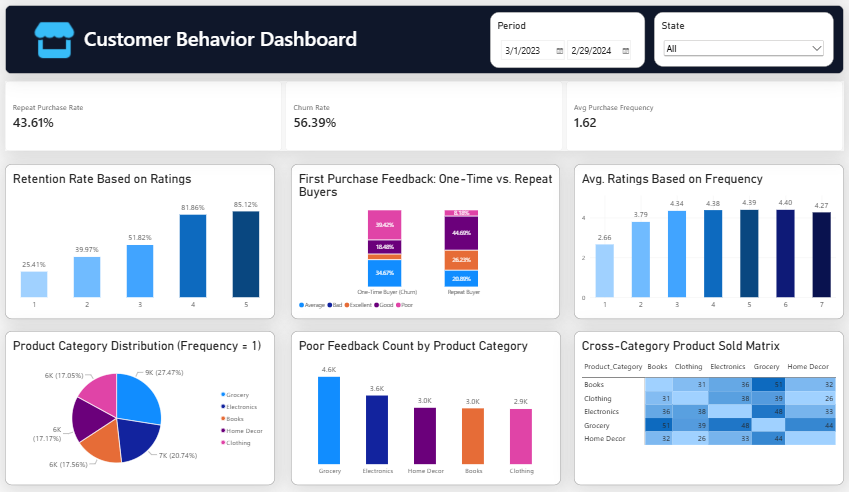

What the dashboard file says about the page in this screenshot:
{"tool":"powerbi","page":{"name":"Customer Behavior","canvas":[1920,1080],"ordinal":1},"visuals":[{"type":"columnChart","title":"Retention Rate Based on Ratings","fields":{"Y":["Measure.Retention Rate"],"Category":["data_usa (6).Ratings"]},"box":[51.8,362.9,583.2,334.8],"z":0},{"type":"columnChart","title":"First Purchase Feedback: One-Time vs. Repeat Buyers","fields":{"Category":["data_usa (6).Buyer_Type"],"Y":["Measure.Feedback_Proportion"],"Series":["data_usa (6).First_Feedback"]},"box":[669.6,362.9,581,334.8],"z":1000},{"type":"clusteredColumnChart","title":"Avg. Ratings Based on Frequency","fields":{"Category":["data_usa (6).Frequency"],"Y":["Avg(data_usa (6).Ratings)"]},"box":[1280.9,362.9,583.2,334.8],"z":2000},{"type":"pieChart","title":"Product Category Distribution (Frequency = 1)","fields":{"Category":["data_usa (6).Product_Category","data_usa (6).products"],"Y":["Sum(data_usa (6).Frequency)"]},"box":[51.8,723.6,583.2,332.6],"z":3000},{"type":"columnChart","title":"Poor Feedback Count by Product Category","fields":{"Category":["data_usa (6).Product_Category"],"Y":["Count(data_usa (6).Customer_ID)"]},"box":[669.6,723.6,583.2,332.6],"z":4000},{"type":"pivotTable","title":"Cross-Category Product Sold Matrix","fields":{"Rows":["data_usa (6).Product_Category"],"Columns":["CrossSell_Kategori.Product_Category"],"Values":["Measure.Jml_Order_Bersamaan"]},"box":[1280.9,723.6,583.2,332.6],"z":5000},{"type":"cardVisual","title":"Social Media Funnel","fields":{"Data":["Measure.Repeat Purchase Rate","Measure.Churn Rate","Measure.Avg Purchase Frequency"]},"box":[51.8,183.6,1812.2,151.2],"z":5001},{"type":"shape","box":[51.8,19.4,1812.2,149],"z":5002},{"type":"textbox","box":[222.5,62.6,1006.6,64.8],"z":5003},{"type":"slicer","title":"Period","fields":{"Values":["data_usa (6).Date"]},"box":[1098.6,33.8,335.1,120.9],"z":5004},{"type":"slicer","title":"State","fields":{"Values":["data_usa (6).State"]},"box":[1453.9,33.8,388,118.4],"z":5005},{"type":"image","box":[112.3,51.8,92.9,86.4],"z":5006}]}

Visuals, with their boxes in screenshot pixels (x1, y1, x2, y2), scaled from the page's 1920x1080 canvas onto the 849x492 screenshot:
"Retention Rate Based on Ratings" columnChart: <bbox>23, 165, 281, 318</bbox>
"First Purchase Feedback: One-Time vs. Repeat Buyers" columnChart: <bbox>296, 165, 553, 318</bbox>
"Avg. Ratings Based on Frequency" clusteredColumnChart: <bbox>566, 165, 824, 318</bbox>
"Product Category Distribution (Frequency = 1)" pieChart: <bbox>23, 330, 281, 481</bbox>
"Poor Feedback Count by Product Category" columnChart: <bbox>296, 330, 554, 481</bbox>
"Cross-Category Product Sold Matrix" pivotTable: <bbox>566, 330, 824, 481</bbox>
"Social Media Funnel" cardVisual: <bbox>23, 84, 824, 153</bbox>
shape: <bbox>23, 9, 824, 77</bbox>
textbox: <bbox>98, 29, 543, 58</bbox>
"Period" slicer: <bbox>486, 15, 634, 70</bbox>
"State" slicer: <bbox>643, 15, 814, 69</bbox>
image: <bbox>50, 24, 91, 63</bbox>
